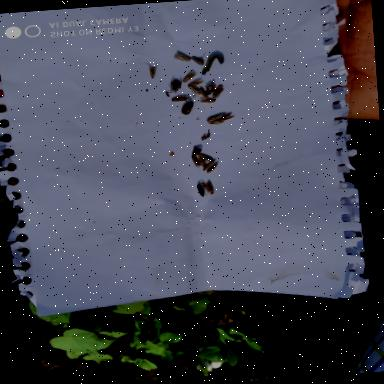pbw: (199, 178, 215, 195), (172, 51, 192, 64), (182, 70, 198, 84), (205, 112, 227, 122), (147, 62, 159, 80), (210, 84, 224, 99), (186, 83, 202, 96), (198, 152, 214, 163), (190, 154, 201, 170), (187, 78, 204, 88), (205, 162, 219, 174), (170, 94, 191, 102), (190, 54, 204, 66), (216, 112, 236, 120), (198, 86, 209, 100), (206, 118, 225, 124), (199, 97, 215, 104), (198, 155, 206, 168)
